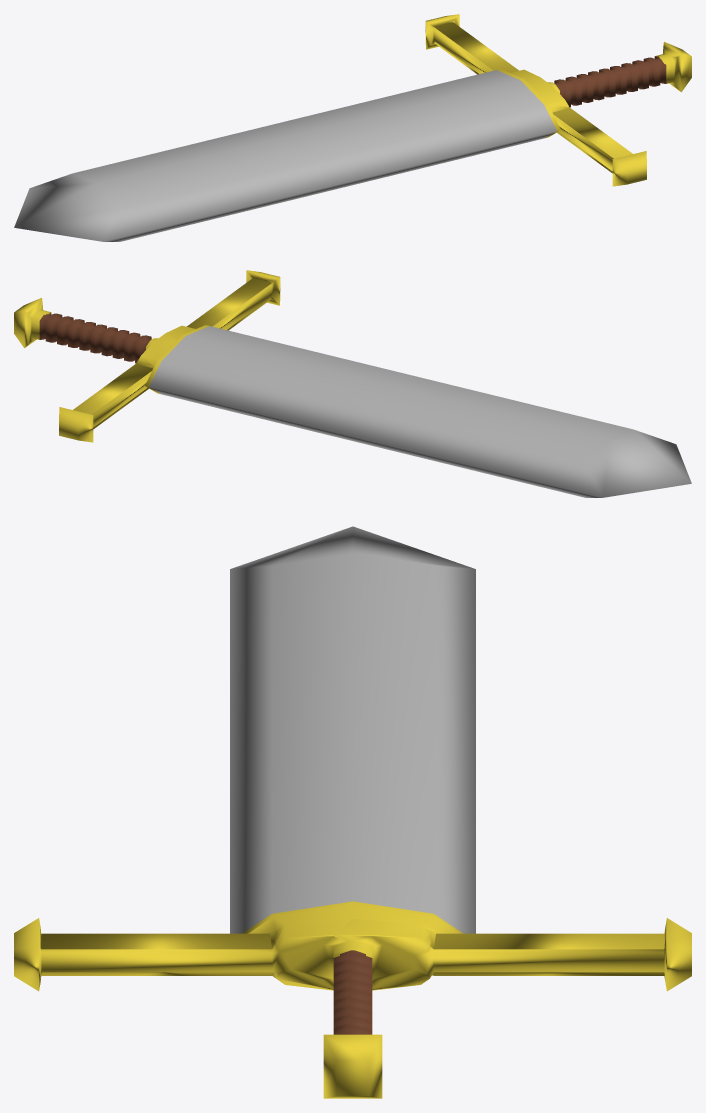
Rendered from power_up Sword.glb.
The picture shows the model from 3 angles, top to bottom: view 1: azimuth 30°, elevation 25°; view 2: azimuth 150°, elevation 25°; view 3: azimuth 270°, elevation 25°; orthographic projection. The views are drawn at different scales.
Visible parts, largest first — view 1: Cube; view 2: Cube; view 3: Cube.
Boxes of the visible parts, <box> form: Cube: <box>14,14,691,241</box>; Cube: <box>14,270,691,497</box>; Cube: <box>14,526,691,1098</box>.
Size of the model in its own units: 6.08 by 0.4148 by 3.16.
